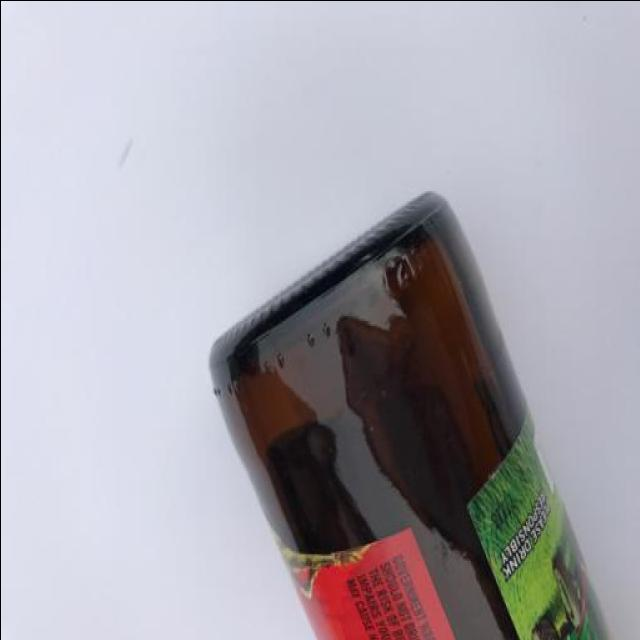glass: (195, 180, 639, 640)
